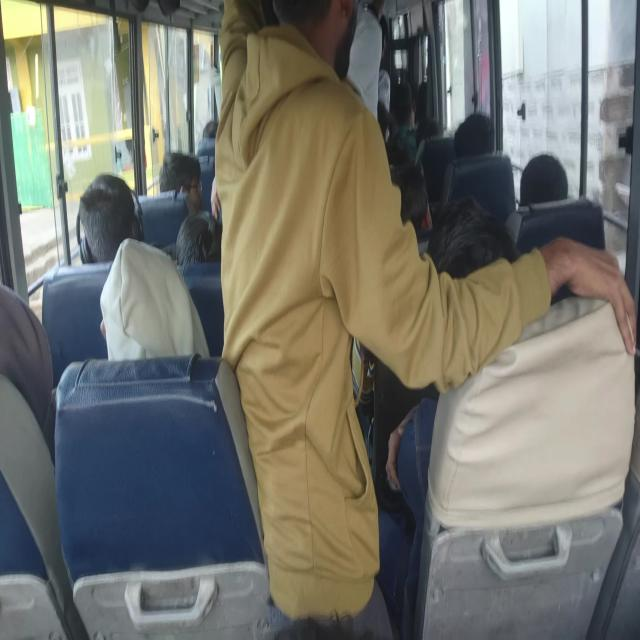person: (236, 20, 383, 543), (101, 262, 198, 366), (432, 211, 532, 305), (0, 306, 54, 447), (78, 181, 150, 253), (177, 204, 230, 278), (514, 161, 578, 212), (449, 107, 506, 162), (392, 170, 437, 227), (380, 129, 430, 170), (158, 154, 200, 201), (388, 85, 417, 124), (414, 74, 439, 118), (419, 120, 454, 150), (202, 117, 228, 137)
